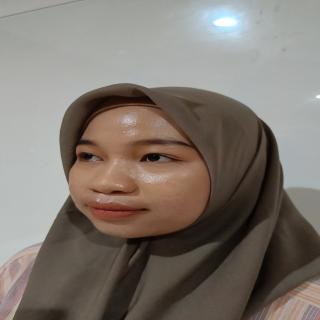Netral: (58, 95, 224, 239)
